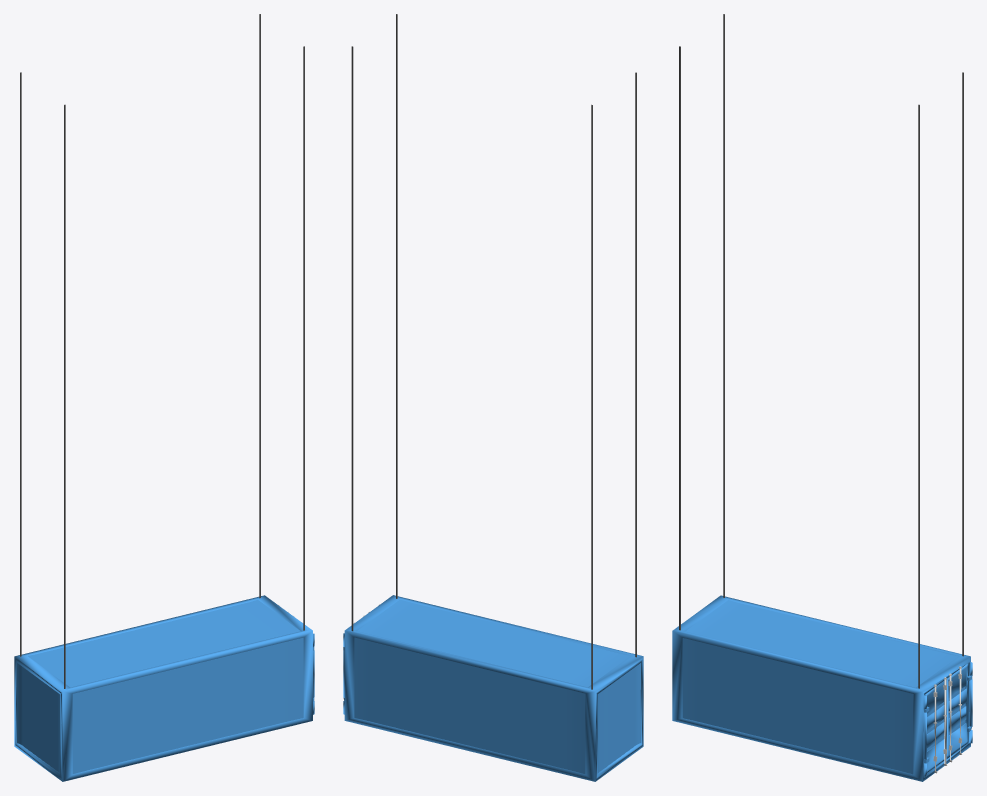
File: Platform.glb
3 views of the same model, side by side, from view 1: azimuth 30°, elevation 25°; view 2: azimuth 150°, elevation 25°; view 3: azimuth 330°, elevation 25° (orthographic).
Parts seen in each view (by area): view 1: Shipping Container 10ft.001; view 2: Shipping Container 10ft.001; view 3: Shipping Container 10ft.001.
Part boxes in pixels (x1=…): Shipping Container 10ft.001: x1=14, y1=14, x2=314, y2=781; Shipping Container 10ft.001: x1=343, y1=14, x2=643, y2=781; Shipping Container 10ft.001: x1=672, y1=14, x2=972, y2=781.
Size of the model in its own units: 2.89 by 7.35 by 0.956.
